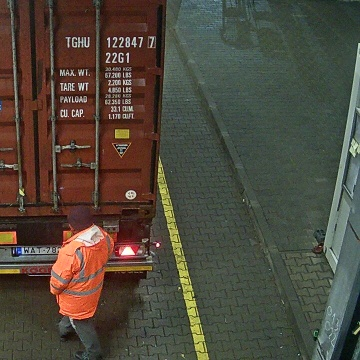serial_id: (65, 37, 154, 47)
